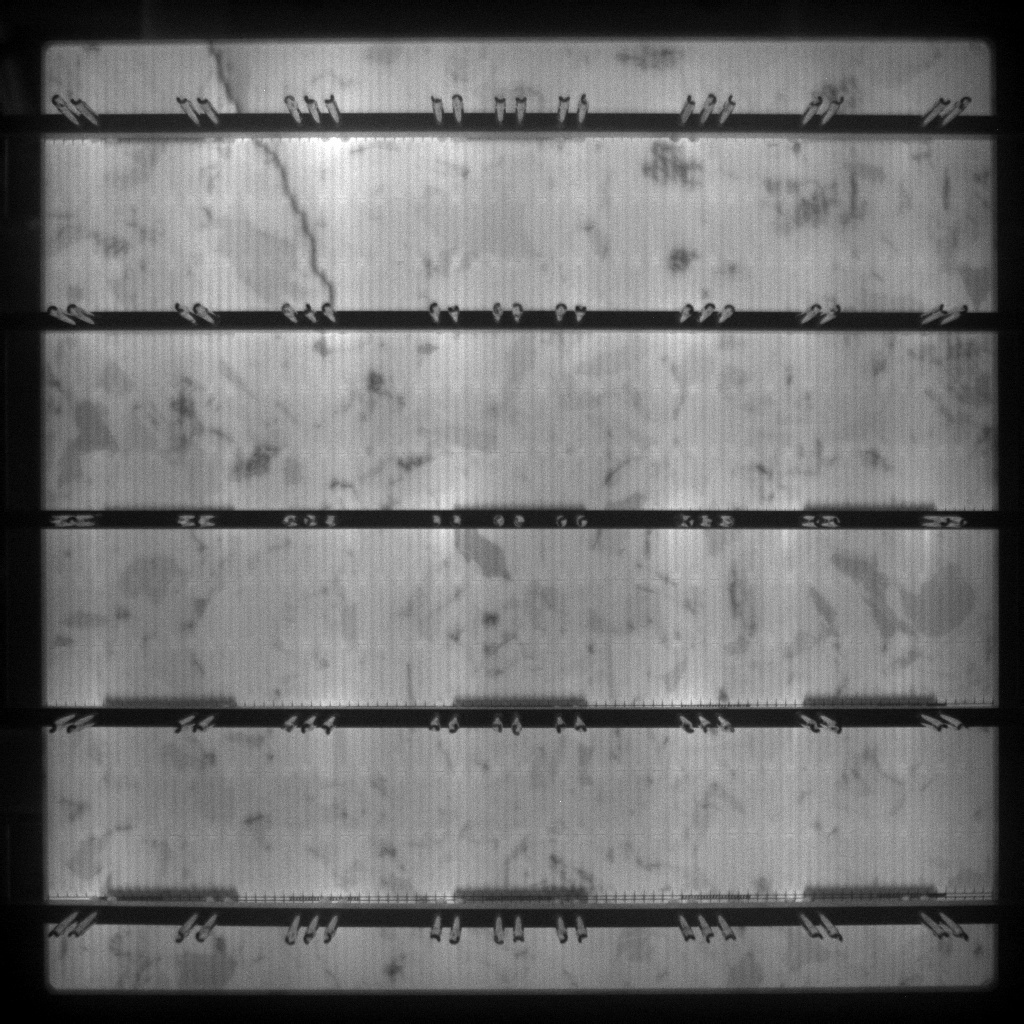crack: (249, 141, 339, 302), (204, 45, 247, 112)
